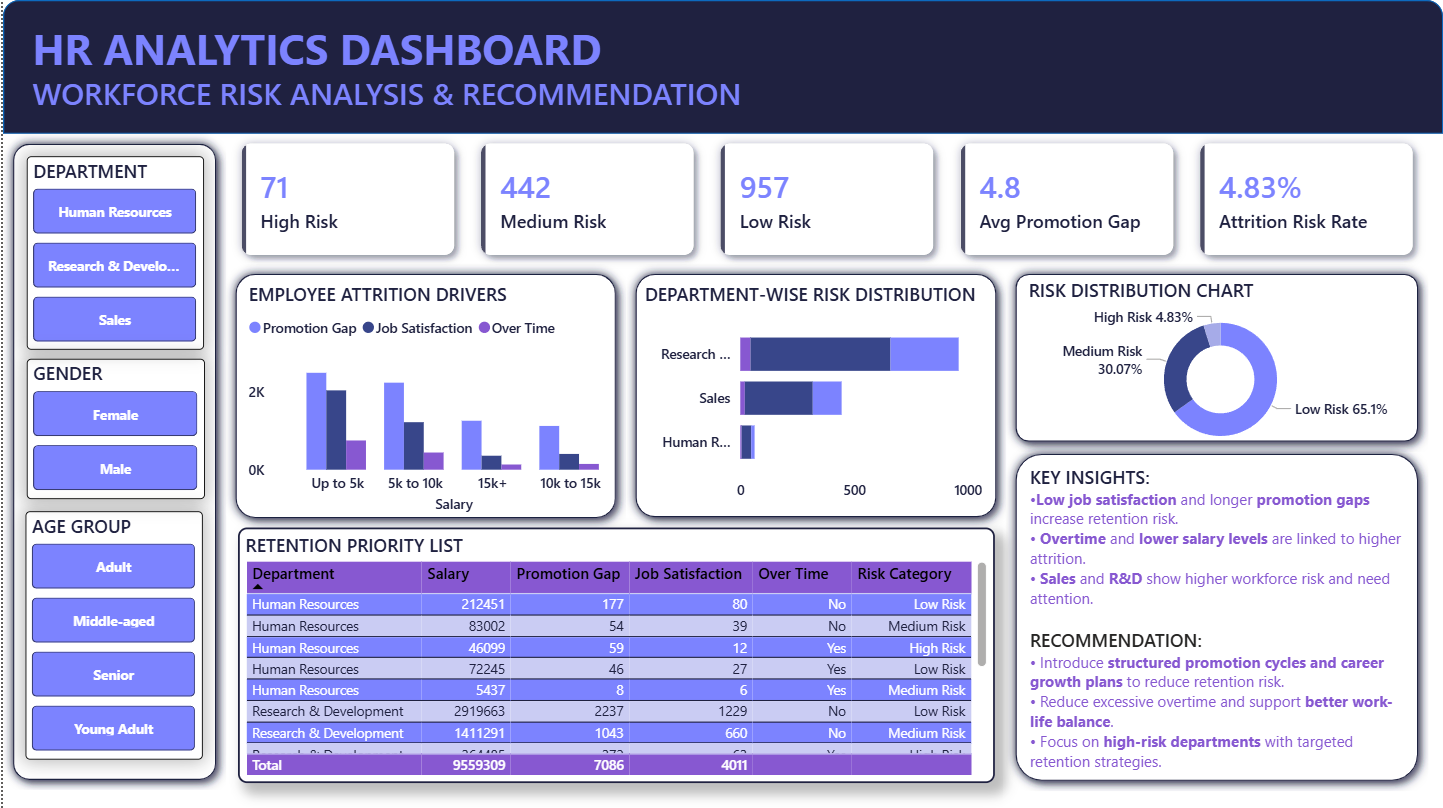

This screenshot's page, from the dashboard's own definition file:
{"tool":"powerbi","page":{"name":"Workforce Risk Analysis & Recoomendation","canvas":[1280,720],"ordinal":2},"visuals":[{"type":"shape","box":[0,0,1280,118.9],"z":0},{"type":"textbox","box":[21.1,13.3,543.3,67.8],"z":1000},{"type":"textbox","box":[20.9,60.5,654.7,46.5],"z":2000},{"type":"shape","box":[0,118.3,198.3,583.3],"z":3000},{"type":"advancedSlicerVisual","title":"DEPARTMENT","fields":{"Values":["HR_Cleaned.Department"]},"box":[21.1,138.9,157.8,172.2],"z":4000},{"type":"advancedSlicerVisual","title":"GENDER","fields":{"Values":["HR_Cleaned.Gender"]},"box":[20.8,319.2,158.3,125],"z":5000},{"type":"advancedSlicerVisual","title":"AGE GROUP","fields":{"Values":["HR_Cleaned.AgeGroup"]},"box":[20,454.4,157.8,221.1],"z":6000},{"type":"cardVisual","fields":{"Data":["HR_Cleaned.High Risk","HR_Cleaned.Medium Risk","HR_Cleaned.Low Risk","HR_Cleaned.Average Promotion Gap","HR_Cleaned.Attrition Risk Rate"]},"box":[188.4,104.7,1091.9,145.3],"z":7000},{"type":"shape","box":[198,234,356,235],"z":8000},{"type":"shape","box":[552.9,234.3,338.6,234.3],"z":9000},{"type":"shape","box":[891.4,234.3,375.7,167.1],"z":10000},{"type":"shape","box":[891.4,394.3,375.7,308.6],"z":11000},{"type":"donutChart","title":"RISK DISTRIBUTION CHART","fields":{"Category":["HR_Cleaned.Risk Category"],"Y":["HR_Cleaned.TotalEmployee"]},"box":[907.1,247.1,351.4,160],"z":12000},{"type":"clusteredColumnChart","title":"EMPLOYEE ATTRITION DRIVERS","fields":{"Category":["HR_Cleaned.SalarySlab"],"Y":["Sum(HR_Cleaned.PromotionGap)","Sum(HR_Cleaned.JobSatisfaction)","CountNonNull(HR_Cleaned.OverTime)"]},"box":[212.9,250,351.4,210.7],"z":13000},{"type":"barChart","title":"DEPARTMENT-WISE RISK DISTRIBUTION","fields":{"Y":["HR_Cleaned.TotalEmployee"],"Category":["HR_Cleaned.Department"],"Series":["HR_Cleaned.Risk Category"]},"box":[565.7,250,310,204.3],"z":14000},{"type":"tableEx","title":"RETENTION PRIORITY LIST","fields":{"Values":["HR_Cleaned.Department","Sum(HR_Cleaned.MonthlyIncome)","Sum(HR_Cleaned.PromotionGap)","Sum(HR_Cleaned.JobSatisfaction)","HR_Cleaned.OverTime","HR_Cleaned.Risk Category"]},"box":[208.6,468.6,672.9,227],"z":15000},{"type":"textbox","box":[907.5,407.5,342.5,286.2],"z":16000}]}

Visuals, with their boxes in screenshot pixels (x1, y1, x2, y2), scaled from the page's 1280x720 canvas onto the 1443x808 screenshot:
shape: bbox=[0, 0, 1442, 133]
textbox: bbox=[24, 15, 636, 91]
textbox: bbox=[24, 68, 762, 120]
shape: bbox=[0, 133, 224, 787]
"DEPARTMENT" advancedSlicerVisual: bbox=[24, 156, 202, 349]
"GENDER" advancedSlicerVisual: bbox=[23, 358, 202, 498]
"AGE GROUP" advancedSlicerVisual: bbox=[23, 510, 200, 758]
cardVisual - HR_Cleaned.High Risk x HR_Cleaned.Medium Risk: bbox=[212, 117, 1442, 281]
shape: bbox=[223, 263, 625, 526]
shape: bbox=[623, 263, 1005, 526]
shape: bbox=[1005, 263, 1428, 450]
shape: bbox=[1005, 442, 1428, 789]
"RISK DISTRIBUTION CHART" donutChart: bbox=[1023, 277, 1419, 457]
"EMPLOYEE ATTRITION DRIVERS" clusteredColumnChart: bbox=[240, 281, 636, 517]
"DEPARTMENT-WISE RISK DISTRIBUTION" barChart: bbox=[638, 281, 987, 510]
"RETENTION PRIORITY LIST" tableEx: bbox=[235, 526, 994, 781]
textbox: bbox=[1023, 457, 1409, 778]
